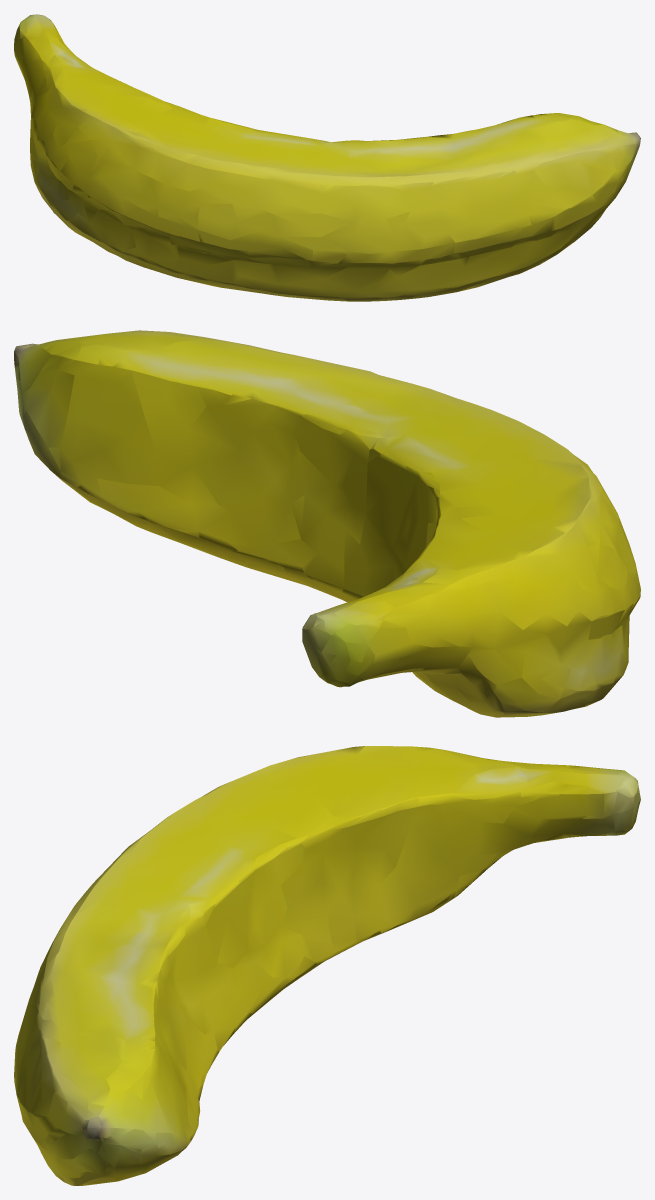
Rendered from 0005_mask_006_banana.glb.
The picture shows the model from 3 angles, top to bottom: view 1: azimuth 30°, elevation 25°; view 2: azimuth 150°, elevation 25°; view 3: azimuth 270°, elevation 25°; orthographic projection. The views are drawn at different scales.
Parts seen in each view (by area): view 1: mask_006_object; view 2: mask_006_object; view 3: mask_006_object.
Boxes of the visible parts, box(x1,y1,x2,y2) form: mask_006_object: box(14, 14, 640, 301); mask_006_object: box(14, 330, 640, 717); mask_006_object: box(14, 746, 640, 1185).
Bounding box in the file's own units: 0.2323 × 0.0764 × 0.1971.
